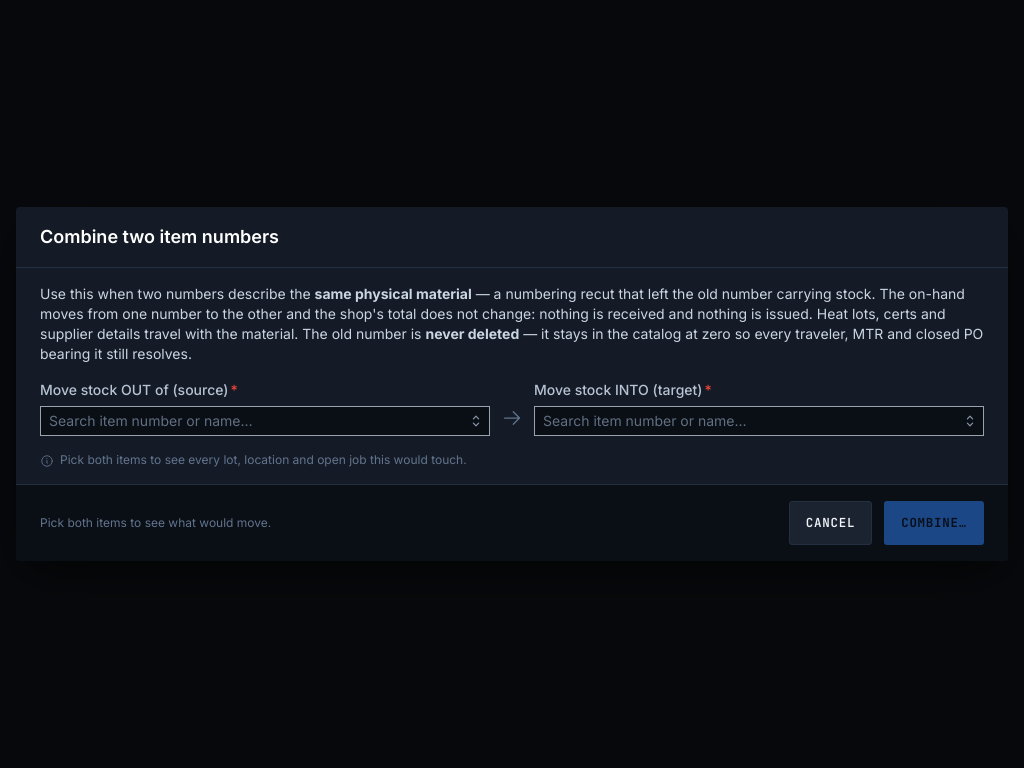
Scenario: CombineInventoryDialog — what the preview puts on screen › says which lots are staying behind, and why, row by row
Click the dropdown labelled "Move stock OUT of (source)*" at (265, 421), box [40,406,490,436]
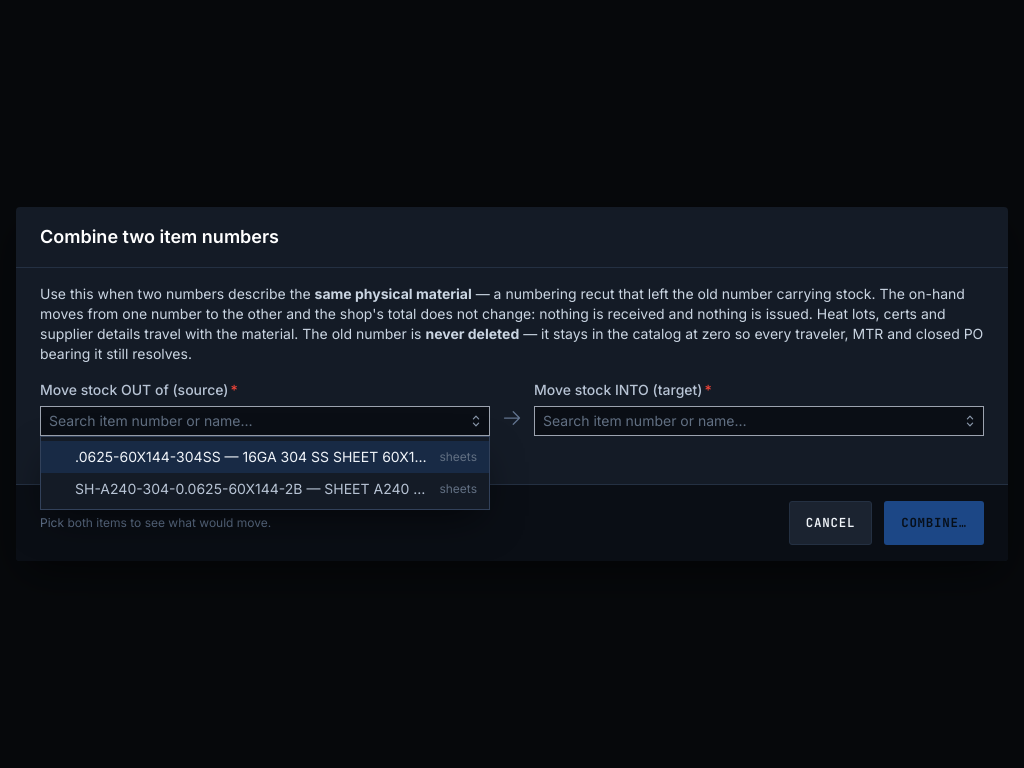
Click the option ".0625-60X144-304SS — 16GA 304 SS SHEET 60X144 sheets" at (265, 457), box [41,441,489,473]
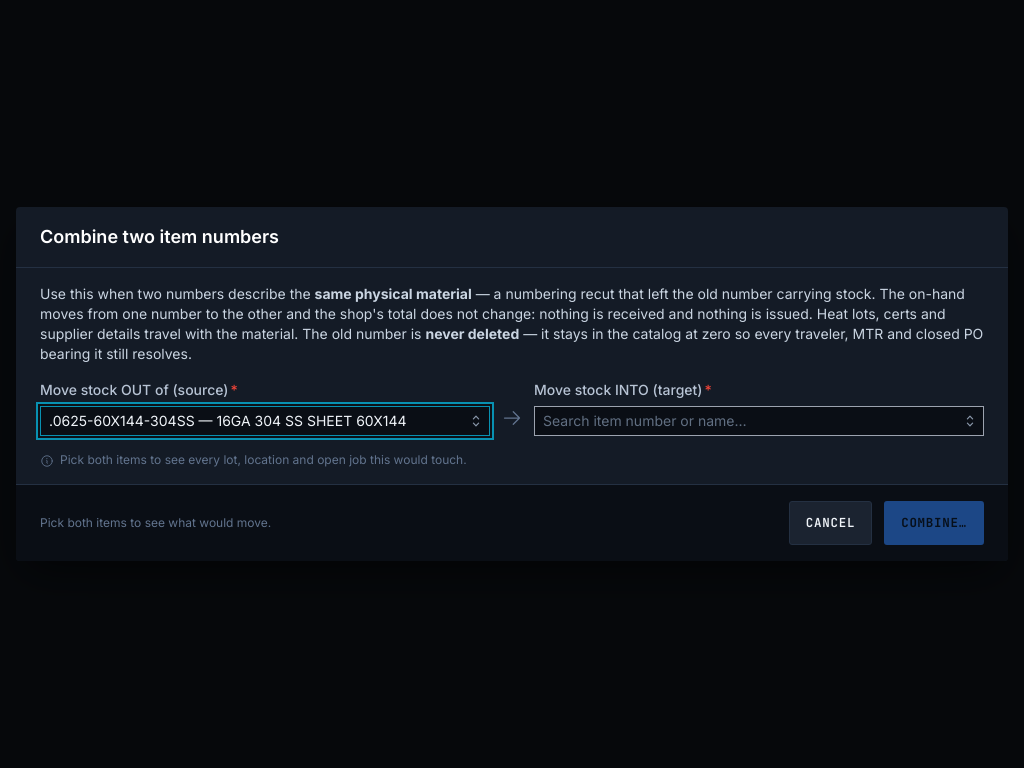
Click the dropdown labelled "Move stock INTO (target)*" at (759, 421), box [534,406,984,436]
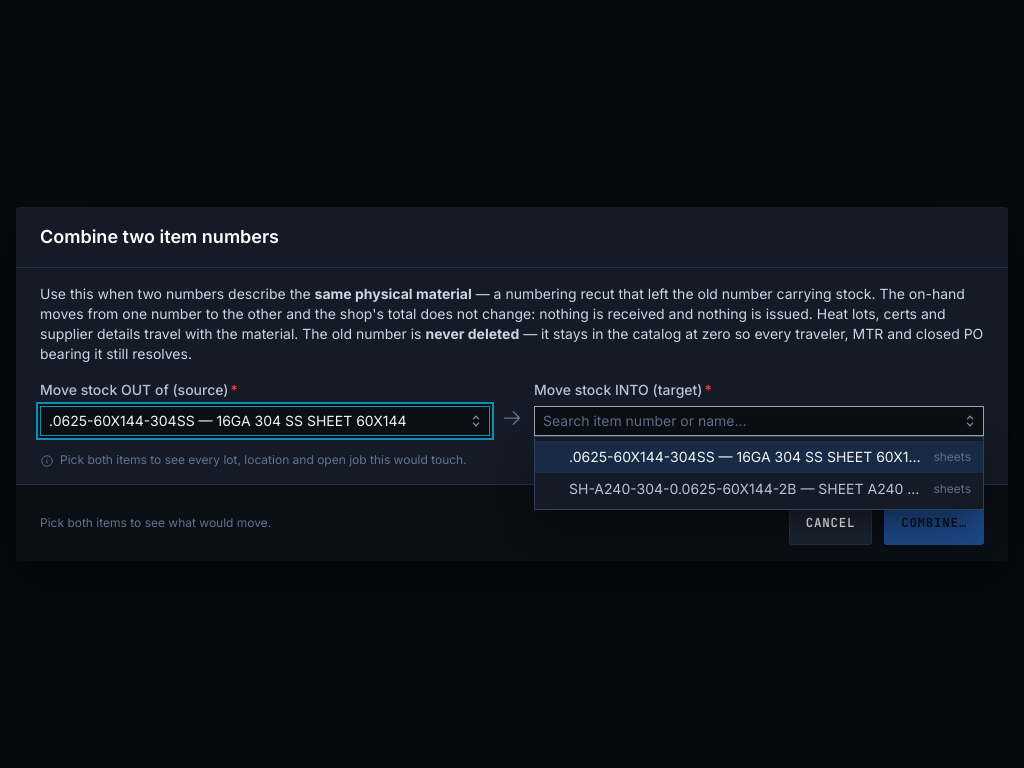
Click the option "SH-A240-304" at (759, 489), box [535,473,983,505]
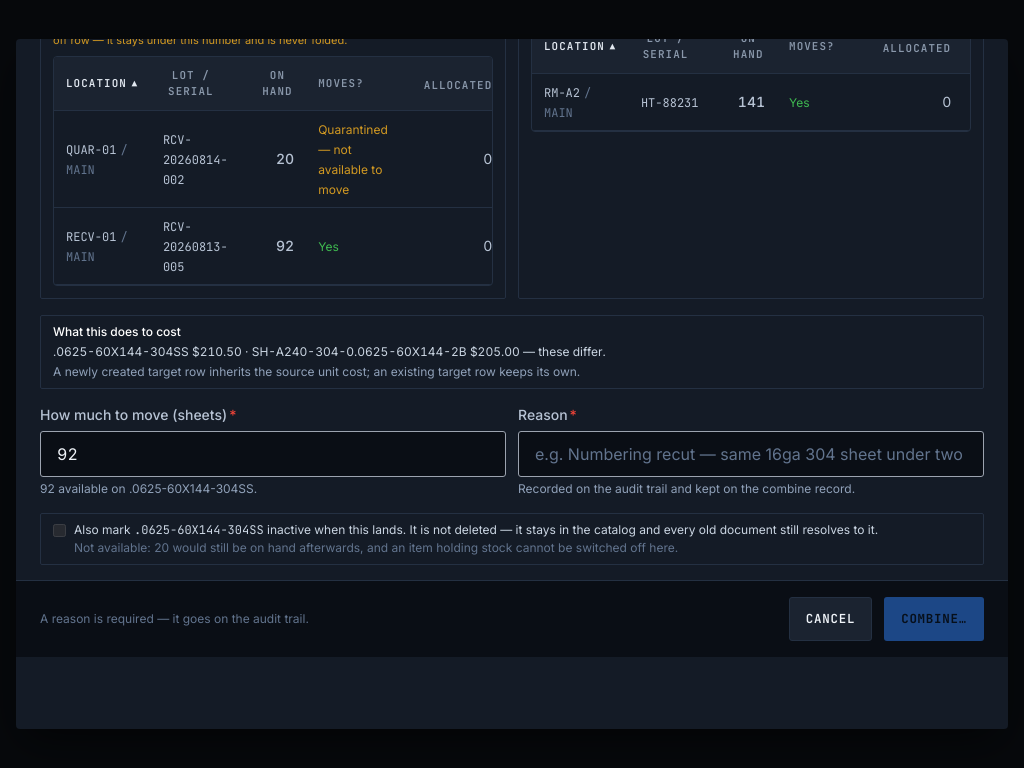
Check: the element with test id "combine-source-summary" is shown, box [40,38,506,299]
Check: the text "Quarantined — not available to move" is shown, box [318,122,388,197]
Check: the number field with test id "combine-quantity" holds "92", box [40,431,506,477]
